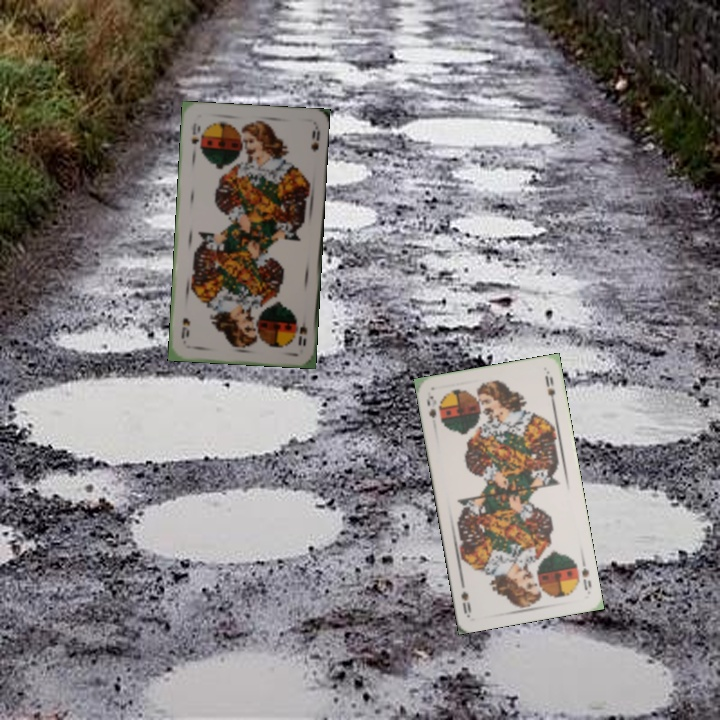SO: (578, 555, 594, 593), (187, 119, 203, 157), (294, 311, 309, 349), (423, 392, 439, 420)
